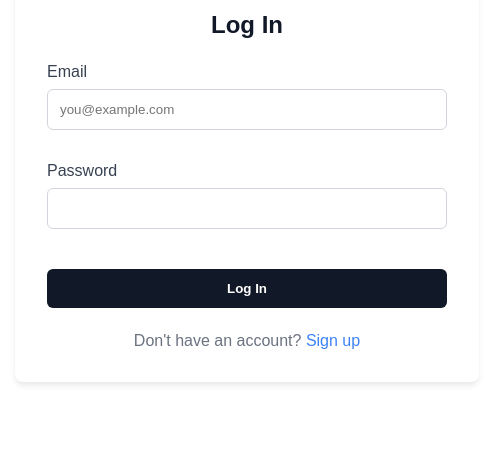
Authentication UI Tests › displays error on failed login
Type "test@test.com" into the field labelled "Email".
click(247, 109); type("test@test.com")  # box 47,89 -> 447,130
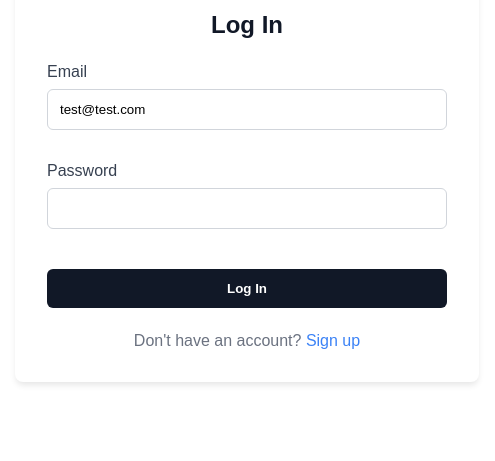
Type "password" into the password field labelled "Password".
click(247, 208); type("password")  # box 47,188 -> 447,229
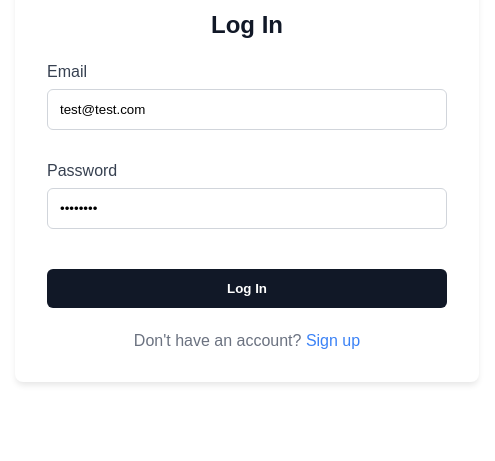
Click the button "Log In".
click(247, 288)  # box 47,269 -> 447,308
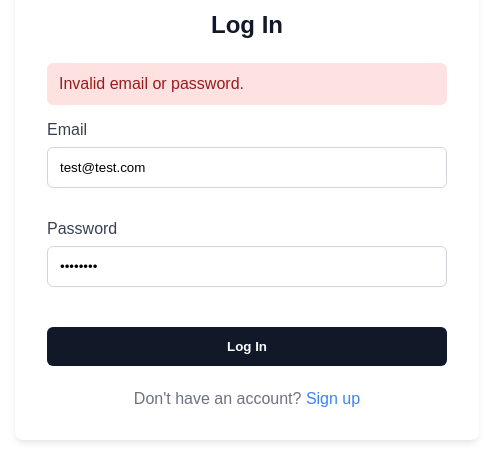
Check: the text "Invalid email or password." is shown, box 47,63 -> 447,105
